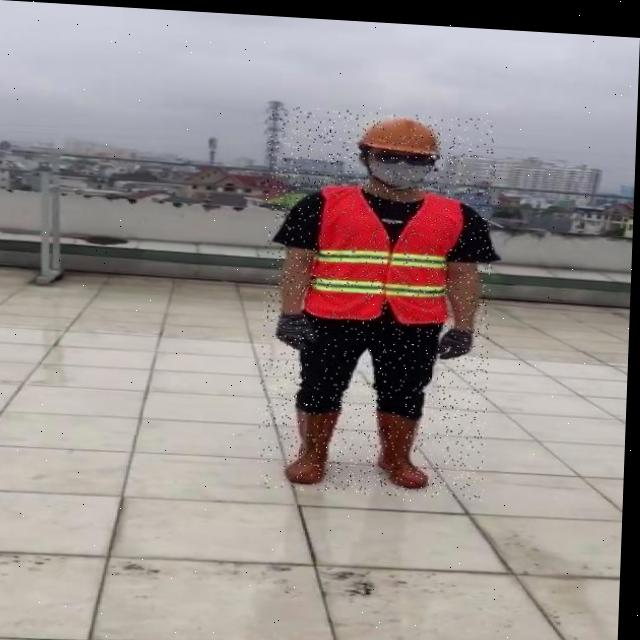Gloves: (278, 307, 322, 347), (442, 321, 477, 355)
Helmet: (358, 109, 444, 186)
Safety-Boot: (288, 398, 345, 482), (378, 402, 436, 484)
Safety-Vest: (305, 177, 468, 322)
